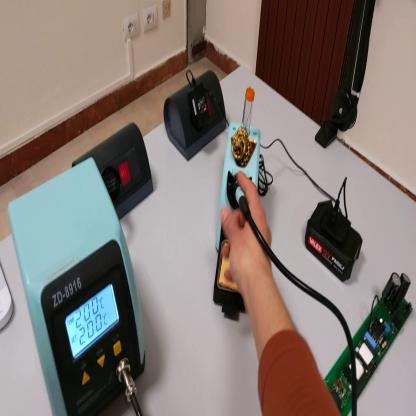electric screwdriver battery: (304, 202, 364, 282)
hand: (219, 176, 274, 298)
high voltage board: (321, 269, 415, 414)
socket: (73, 118, 155, 222), (163, 71, 228, 162)
welder base: (214, 82, 268, 321)
welder probe tip: (233, 182, 253, 222)
welder station: (7, 157, 149, 415)
